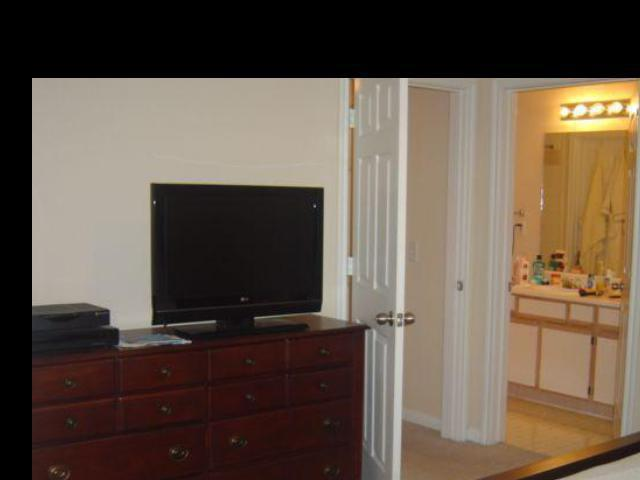Puerta: (351, 66, 406, 480)
